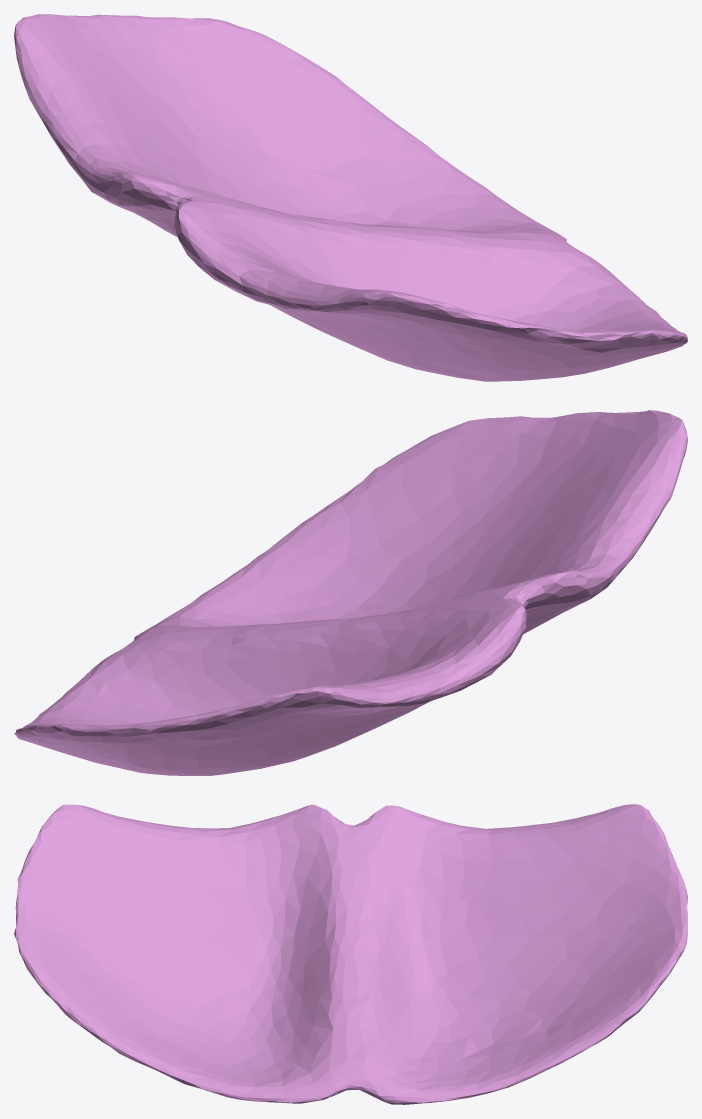
3 renders of one model, top to bottom at view 1: azimuth 30°, elevation 25°; view 2: azimuth 150°, elevation 25°; view 3: azimuth 270°, elevation 25°, orthographic. The views are drawn at different scales.
Visible parts, largest first — view 1: 851.obj; view 2: 851.obj; view 3: 851.obj.
Part boxes in pixels (box(x1,y1,x2,y2)): 851.obj: box(14, 14, 687, 381); 851.obj: box(14, 410, 687, 775); 851.obj: box(14, 804, 687, 1104).
Bounding box in the file's own units: 1941 × 944 × 3292.
